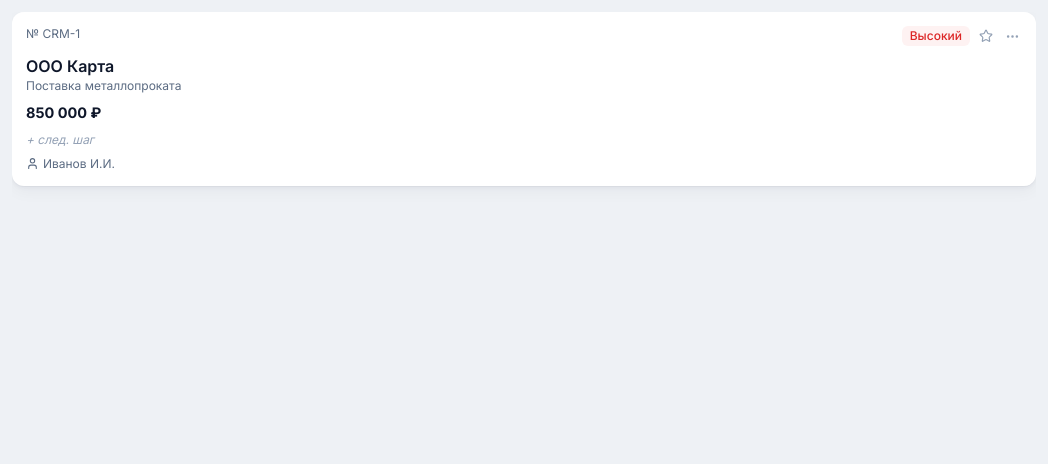
DealCard › пункт CardMenu «След. шаг…» открывает тот же композер
The image size is (1048, 464).
Step 1. Click the button named "Меню карточки" → (1012, 36), box [1002,26,1022,46]
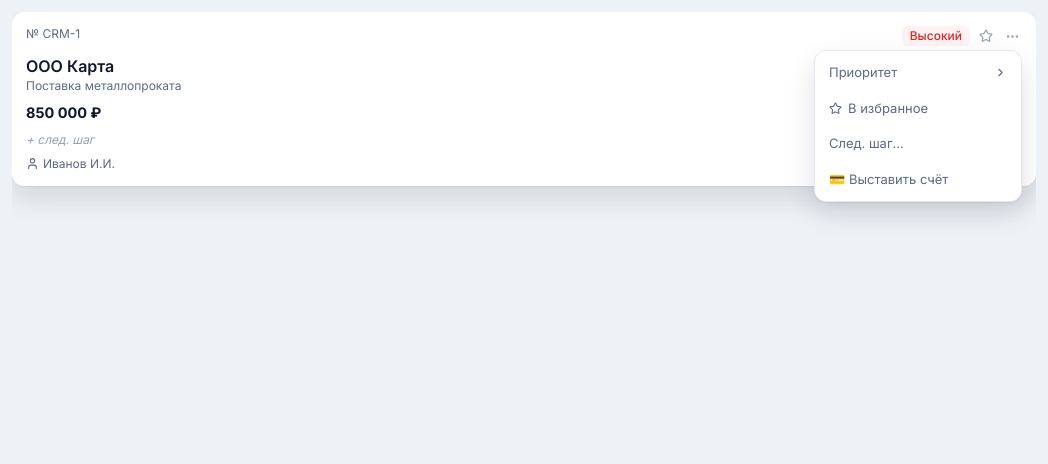
Step 2. Click the button "След. шаг…" → (918, 144), box [819,126,1017,162]
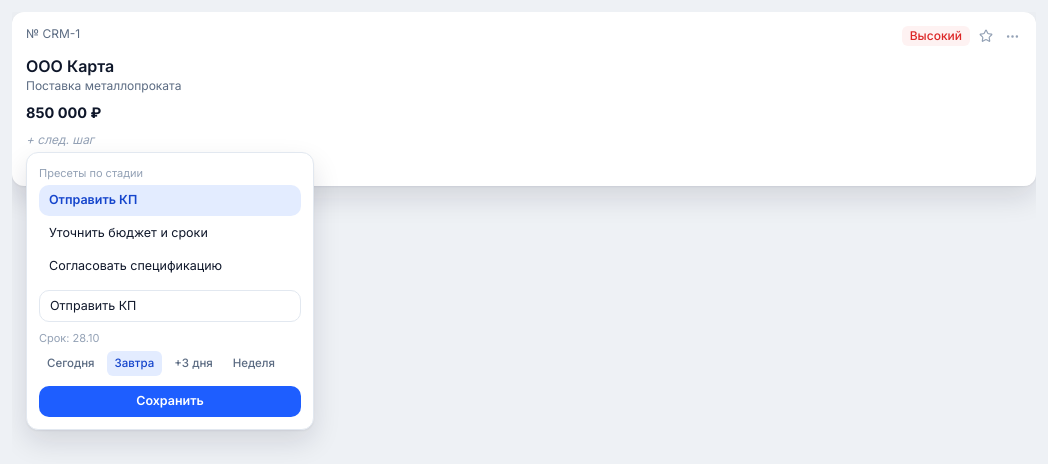
Check: the button "Отправить КП" is shown, box [39,185,301,216]
